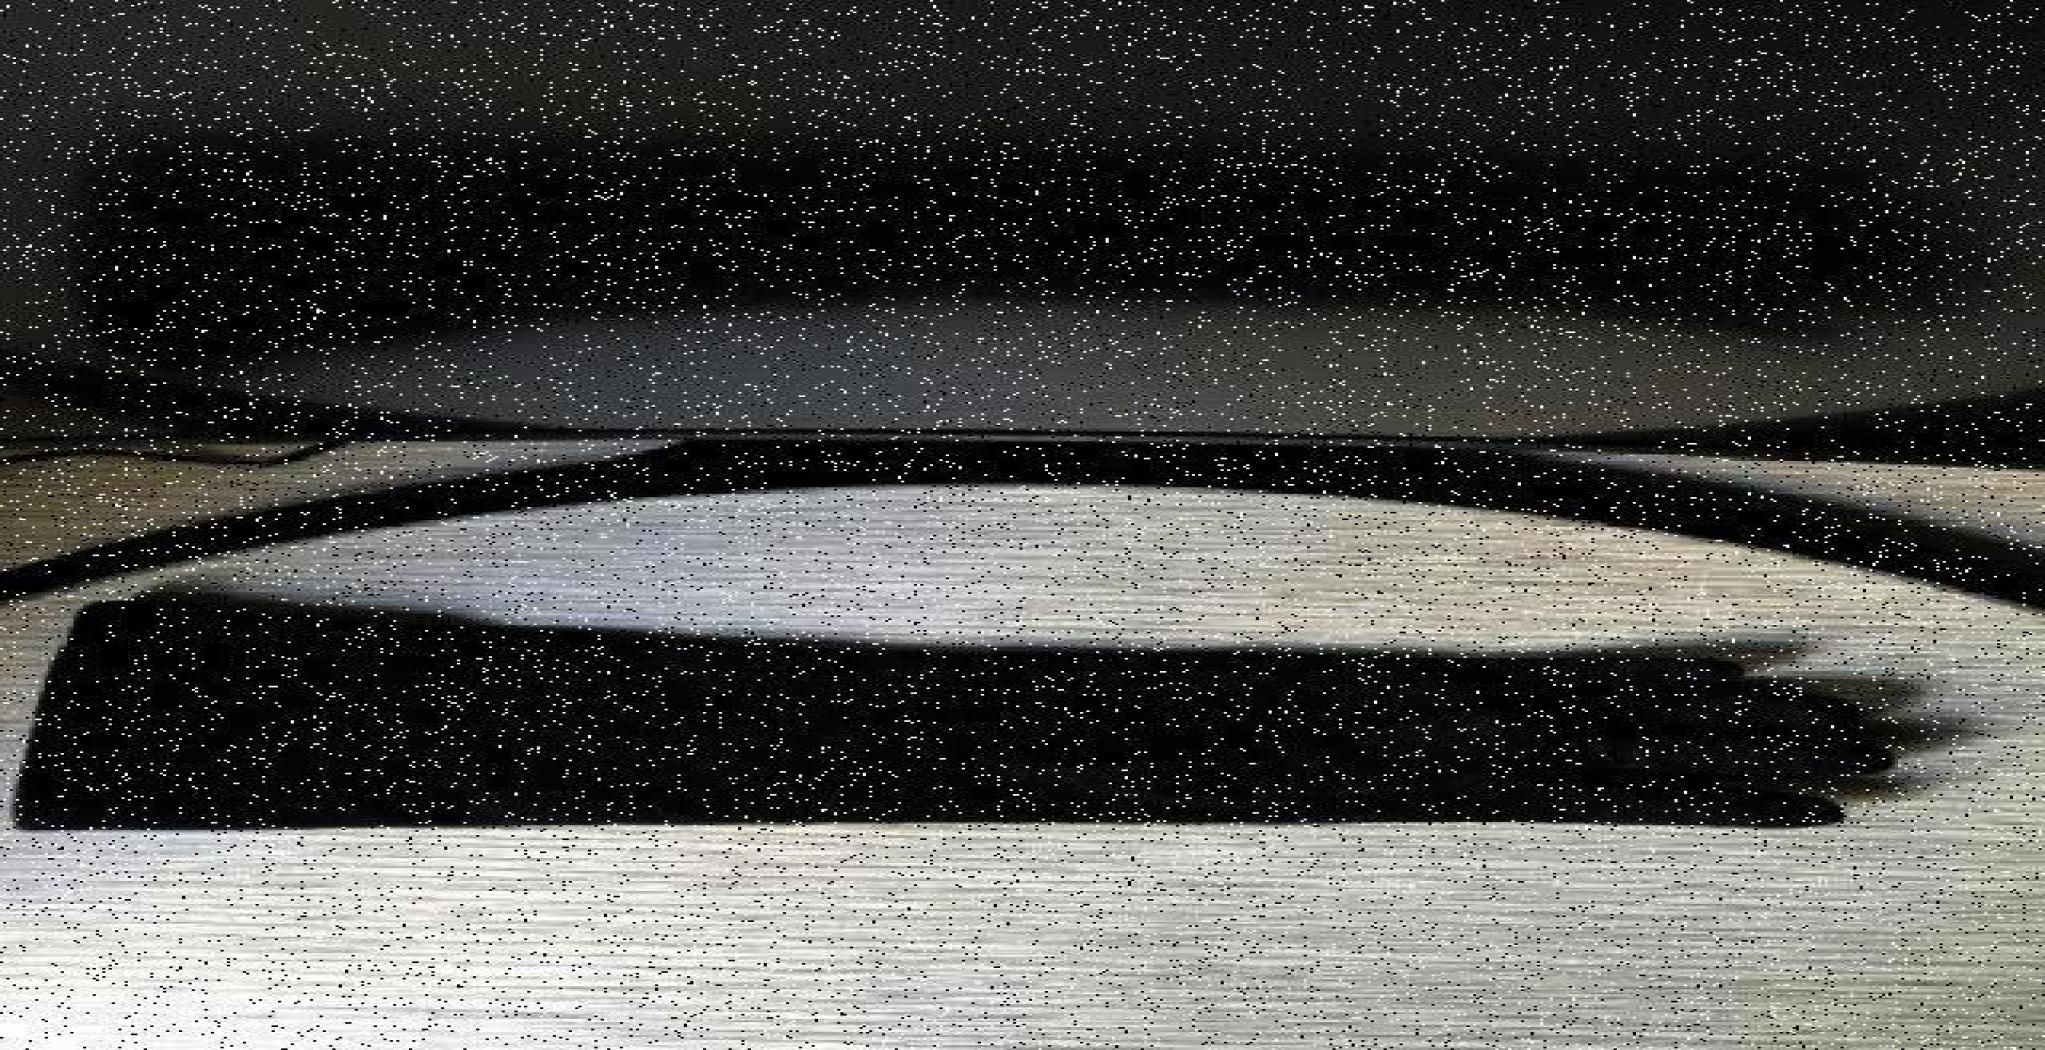gloved: (96, 560, 1957, 891)
